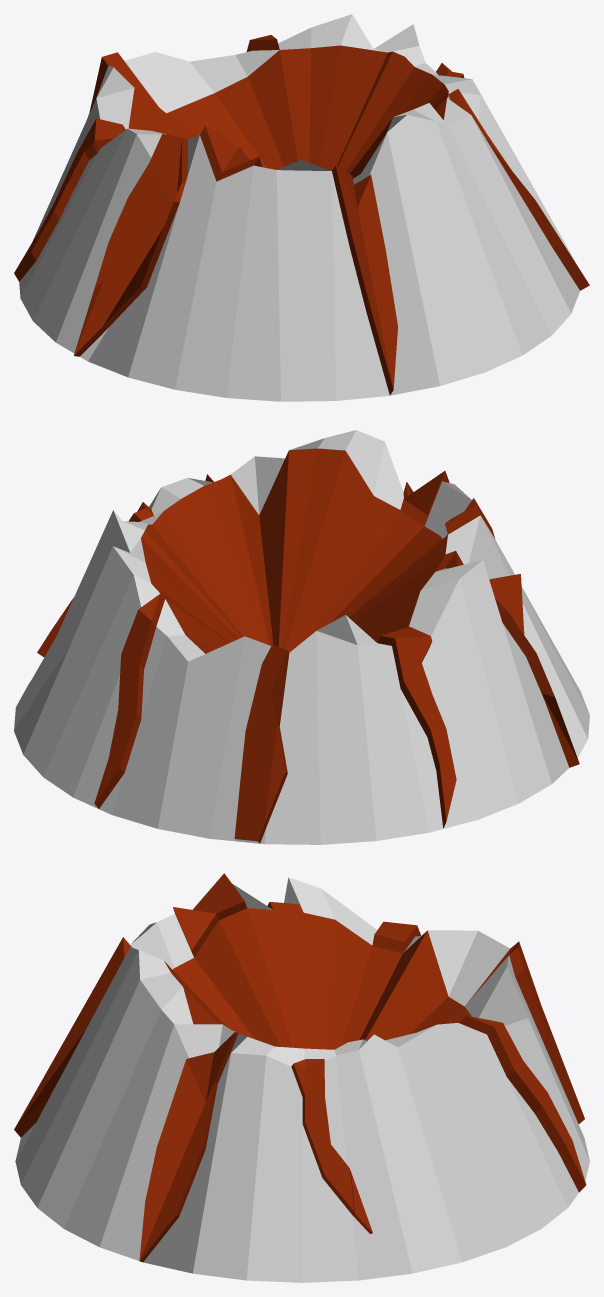
The model's file is Volcano.fbx.
The picture shows the model from 3 angles, top to bottom: view 1: azimuth 30°, elevation 25°; view 2: azimuth 150°, elevation 25°; view 3: azimuth 270°, elevation 25°; orthographic projection. The views are drawn at different scales.
Visible parts, largest first — view 1: Cone; view 2: Cone; view 3: Cone.
Boxes of the visible parts, x1,y1,x2,y2 form: Cone: [14, 14, 589, 401]; Cone: [14, 430, 589, 844]; Cone: [14, 873, 589, 1282].
Bounding box in the file's own units: 50.48 × 21.61 × 50.12.
